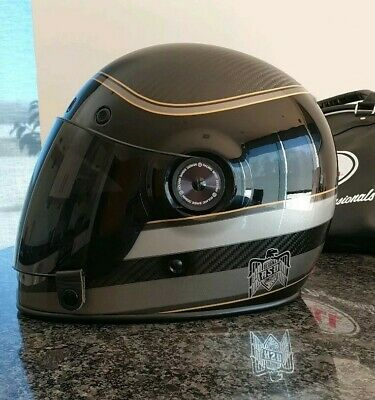with_helmet: (12, 43, 339, 320)
